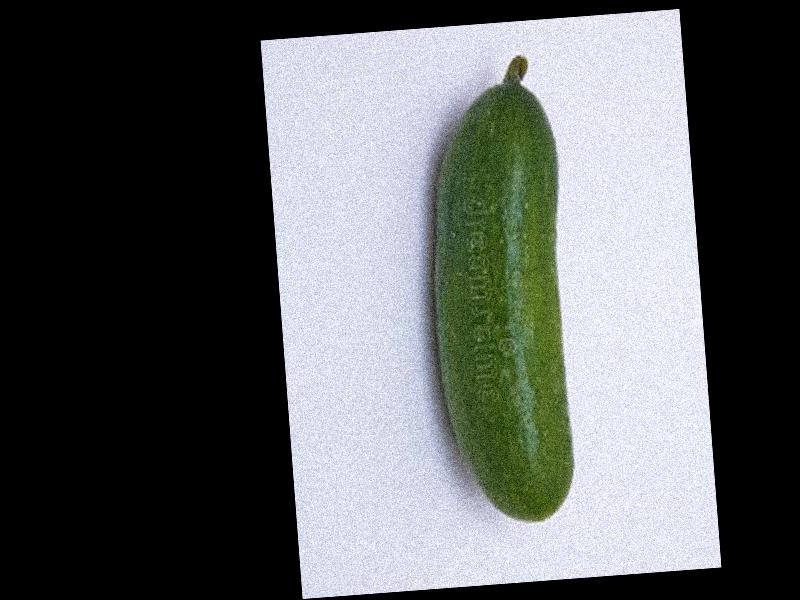Cucumber: (415, 53, 583, 528)
